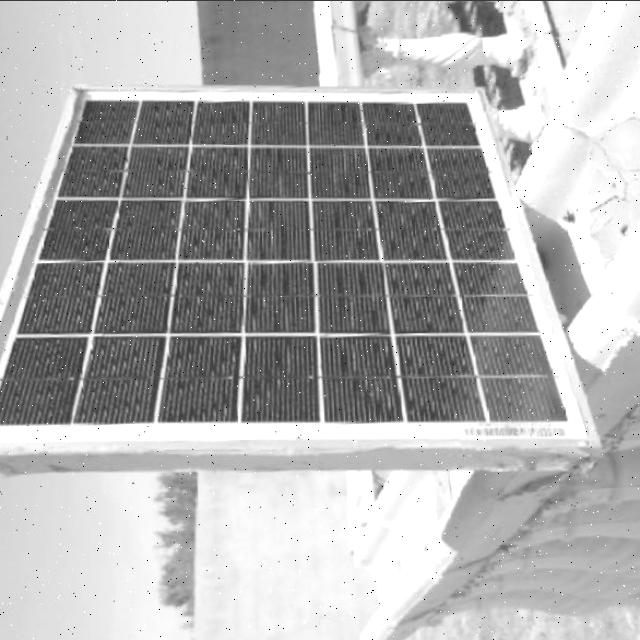Normal Solar Panel: (0, 66, 600, 468)
